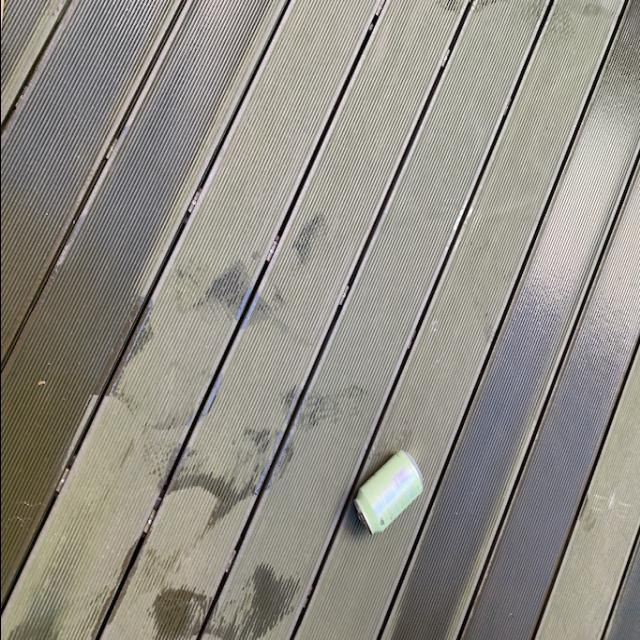Aluminum Can: (345, 448, 421, 542)
